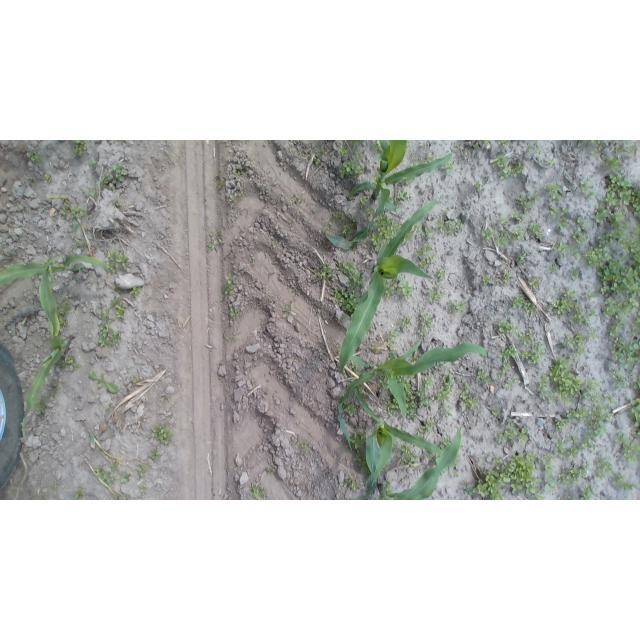Maize: (338, 336, 488, 453), (340, 199, 438, 370), (326, 140, 456, 249), (352, 387, 450, 486), (2, 255, 106, 338), (359, 427, 462, 499), (25, 334, 76, 444), (45, 191, 91, 247), (86, 458, 123, 498), (81, 424, 116, 461)
Weeds: (599, 256, 640, 318), (493, 456, 539, 497), (605, 173, 639, 217), (549, 357, 584, 399), (608, 321, 638, 367), (577, 140, 640, 158), (403, 380, 431, 418), (373, 215, 400, 250), (477, 468, 505, 500), (588, 405, 613, 439), (617, 224, 640, 257), (547, 288, 575, 315), (331, 287, 359, 313), (205, 227, 230, 256), (614, 433, 638, 463), (337, 260, 363, 287), (492, 156, 522, 179), (497, 361, 520, 391), (415, 241, 440, 267), (90, 372, 119, 393), (608, 213, 630, 239), (551, 204, 570, 234), (584, 246, 611, 267), (437, 371, 455, 401), (563, 331, 586, 354), (459, 384, 480, 409), (538, 472, 558, 498), (523, 342, 546, 364), (149, 424, 173, 445), (56, 203, 87, 219), (496, 428, 529, 443), (575, 179, 597, 201), (338, 159, 362, 179), (508, 294, 534, 312), (400, 445, 421, 467), (99, 326, 121, 347), (340, 473, 362, 494), (572, 217, 589, 244), (110, 295, 127, 322), (417, 418, 438, 439), (559, 466, 580, 485), (426, 283, 447, 302), (543, 181, 565, 199), (496, 318, 517, 336), (419, 311, 436, 333), (351, 448, 365, 474), (613, 368, 632, 387), (473, 365, 493, 383), (583, 436, 603, 454), (46, 382, 61, 405), (594, 459, 612, 478), (96, 173, 115, 191), (250, 481, 268, 500), (591, 208, 611, 225), (585, 379, 599, 403), (103, 251, 117, 275), (573, 302, 587, 325), (565, 407, 587, 421), (397, 278, 414, 296), (541, 454, 558, 472), (536, 389, 554, 406), (350, 431, 366, 450), (612, 475, 632, 490), (576, 485, 596, 500), (26, 148, 43, 165), (84, 186, 101, 203), (388, 329, 401, 351), (500, 346, 519, 361), (395, 189, 410, 208), (434, 268, 450, 285), (554, 416, 571, 432), (59, 298, 74, 316), (113, 161, 128, 179), (461, 481, 475, 500), (440, 404, 455, 421), (630, 398, 639, 426), (448, 301, 467, 314), (215, 169, 226, 191), (516, 194, 532, 209), (71, 140, 86, 156), (332, 207, 347, 223), (517, 330, 534, 344), (229, 189, 246, 203), (481, 272, 495, 289), (66, 356, 81, 371), (383, 396, 397, 412), (496, 230, 509, 247), (86, 157, 99, 174), (556, 242, 569, 259), (549, 261, 564, 275), (437, 216, 450, 232), (150, 447, 163, 463), (225, 273, 235, 293), (319, 266, 333, 280), (530, 223, 544, 237), (340, 221, 354, 235), (451, 219, 466, 232), (510, 211, 527, 222), (289, 283, 302, 297), (137, 483, 149, 498), (605, 395, 620, 407), (578, 459, 590, 474), (73, 489, 89, 500), (299, 440, 310, 456), (306, 154, 322, 165), (606, 157, 620, 169), (116, 254, 128, 268), (564, 447, 578, 459), (446, 159, 456, 175), (101, 312, 114, 324), (527, 275, 539, 288), (373, 141, 383, 156), (401, 316, 413, 328), (423, 376, 435, 388), (513, 228, 525, 240), (286, 435, 298, 447), (504, 414, 516, 426), (632, 373, 640, 391), (538, 376, 549, 389), (517, 253, 528, 266), (483, 228, 494, 241), (131, 374, 142, 387), (382, 480, 393, 493), (290, 195, 303, 206), (554, 442, 567, 453), (385, 283, 395, 297), (571, 249, 581, 263), (114, 195, 123, 210), (344, 404, 356, 415), (136, 465, 148, 476), (103, 473, 115, 484), (449, 469, 460, 481), (75, 239, 85, 252), (348, 141, 366, 148), (113, 286, 124, 297), (280, 305, 291, 316), (490, 407, 501, 418), (120, 471, 130, 483), (129, 287, 141, 297), (423, 226, 433, 238), (543, 158, 556, 167), (586, 289, 597, 299), (265, 465, 275, 476), (425, 154, 435, 165), (317, 145, 327, 156), (534, 189, 541, 204), (110, 458, 118, 471), (53, 479, 61, 492), (497, 140, 510, 148), (570, 269, 580, 279), (502, 273, 512, 283), (588, 308, 598, 318), (428, 454, 439, 463), (414, 224, 423, 235), (60, 318, 69, 329), (249, 256, 258, 267), (366, 205, 375, 216), (44, 173, 52, 185), (406, 163, 419, 170), (524, 144, 531, 157), (337, 146, 347, 155), (359, 196, 368, 206), (229, 309, 239, 318), (26, 179, 35, 189), (38, 402, 47, 412), (104, 402, 112, 413), (570, 436, 581, 444), (480, 141, 492, 148), (590, 330, 599, 339), (441, 438, 450, 447), (228, 338, 237, 347), (474, 181, 482, 191), (234, 170, 243, 178), (402, 179, 411, 187), (357, 152, 366, 160), (565, 494, 576, 500), (94, 466, 102, 474), (535, 146, 542, 155), (353, 215, 359, 224), (18, 142, 24, 150), (277, 248, 283, 255), (272, 239, 277, 247), (239, 269, 245, 275)
